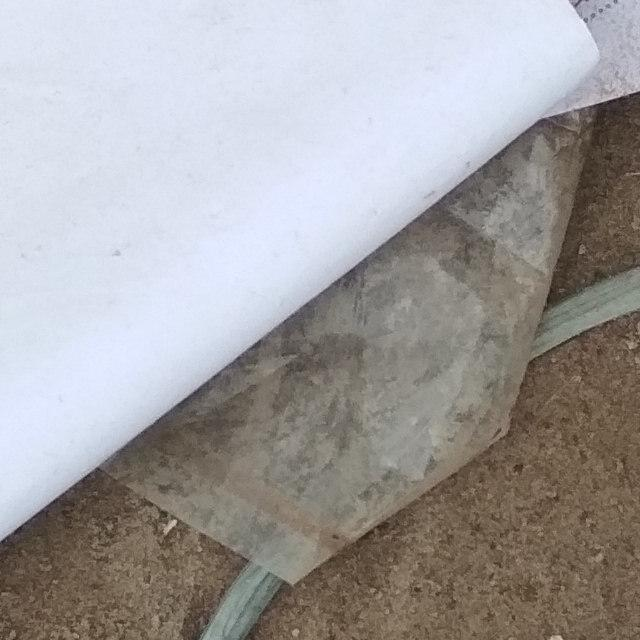paper: (0, 0, 613, 640), (0, 0, 640, 216)
